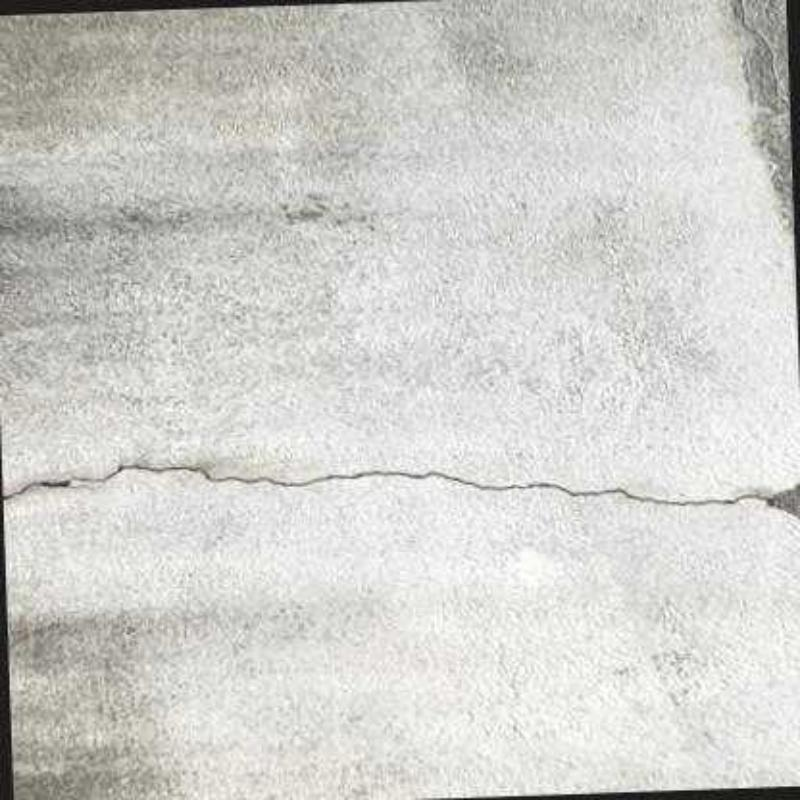pothole: (3, 461, 800, 508)
